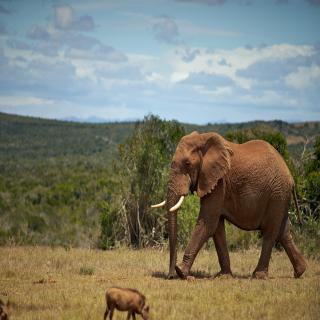Elephant: (150, 130, 310, 286)
